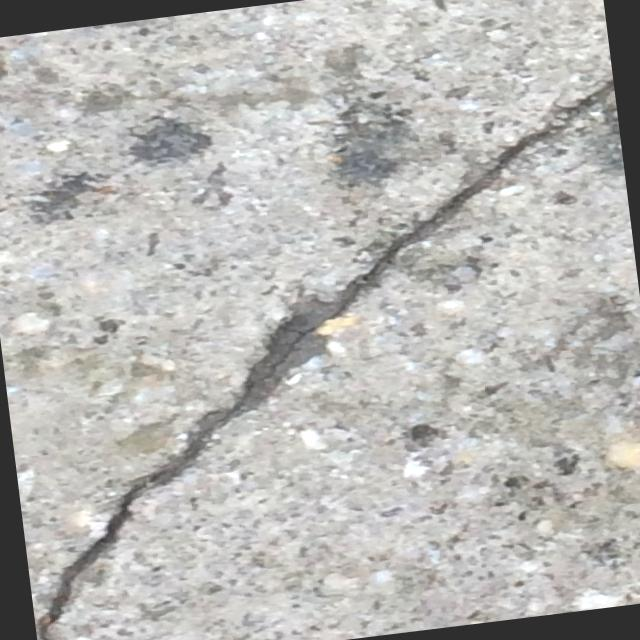crack: (0, 79, 640, 640)
spall: (148, 282, 362, 484)
